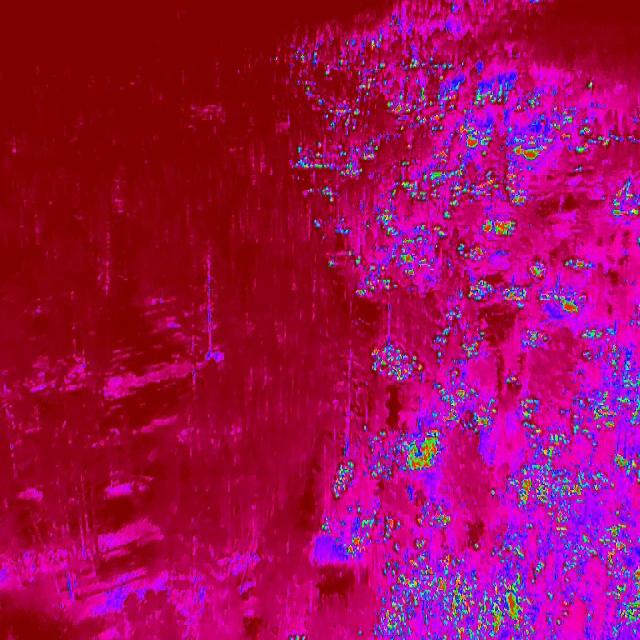fire: (281, 38, 448, 222), (445, 84, 640, 220), (324, 220, 590, 314), (322, 426, 448, 559), (372, 546, 546, 640), (511, 394, 618, 537), (562, 520, 640, 640), (430, 309, 504, 433), (573, 325, 640, 447), (366, 339, 426, 388), (610, 442, 640, 491), (515, 328, 553, 352)
